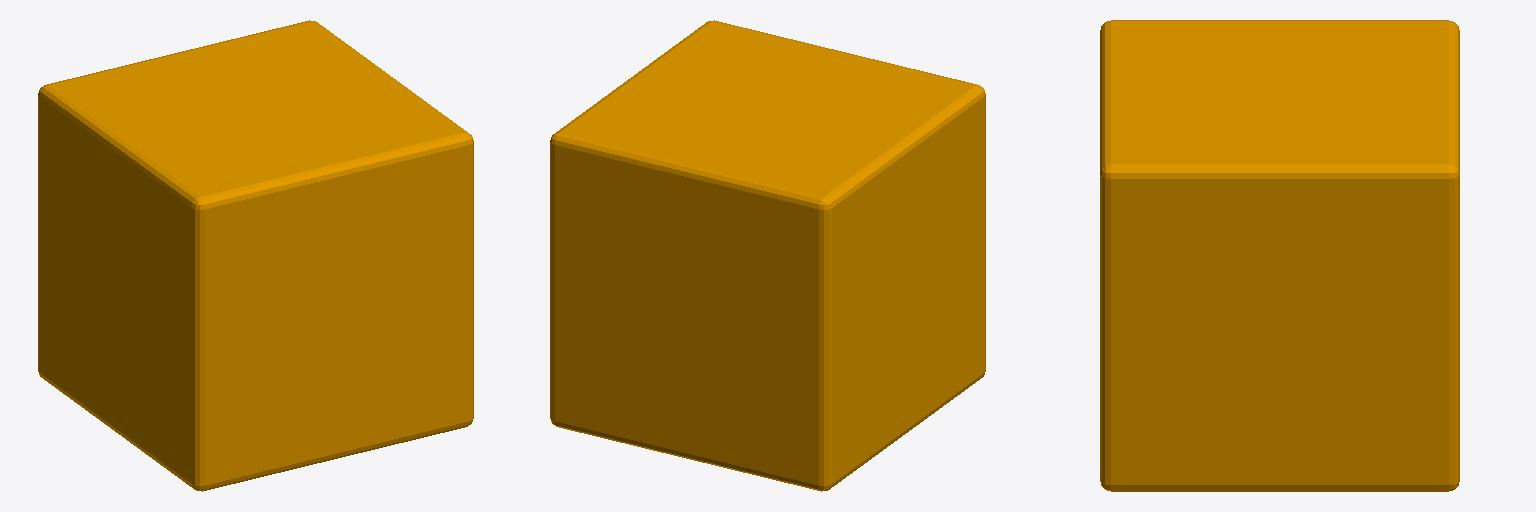
URDF robot description (wooden_block_5_0):
<?xml version="1.0" ?>
<robot name="wooden_block_5_0">
  <link name="base_link">
    <inertial>
      <origin xyz="0 0 0.025" rpy="0 0 0"/>
      <mass value="0.055"/>
      <inertia ixx="2.29166667e-05" ixy="0" ixz="0" iyy="2.29166667e-05" iyz="0" izz="2.29166667e-05"/>
    </inertial>
    <visual name="visual">
      <origin xyz="0 0 0" rpy="0 0 0"/>
      <geometry>
        <mesh filename="meshes/visual.obj" scale="1 1 1"/>
      </geometry>
    </visual>
    <collision name="box">
      <origin xyz="0 0 0" rpy="0 0 0"/>
      <geometry>
        <mesh filename="meshes/collision/box.obj" scale="1 1 1"/>
      </geometry>
    </collision>
  </link>
</robot>

--- What the picture shows (computed from the rendered views, not written in the file) ---
The picture shows the robot from 3 angles, left to right: view 1: azimuth 30°, elevation 25°; view 2: azimuth 150°, elevation 25°; view 3: azimuth 270°, elevation 25°; orthographic projection.
Robot: wooden_block_5_0 — 1 links, 0 joints (none); root link base_link; default pose: every joint at zero.
Visible links, largest first — view 1: base_link; view 2: base_link; view 3: base_link.
Link boxes in pixels (left/top/right/bottom): base_link: left=38, top=20, right=473, bottom=491; base_link: left=550, top=20, right=985, bottom=491; base_link: left=1100, top=20, right=1459, bottom=491.
Bounding box of the posed robot: 0.05 × 0.05 × 0.05 m (x, y, z).
1 mesh visuals loaded from 1 distinct referenced files (1 OBJ).
